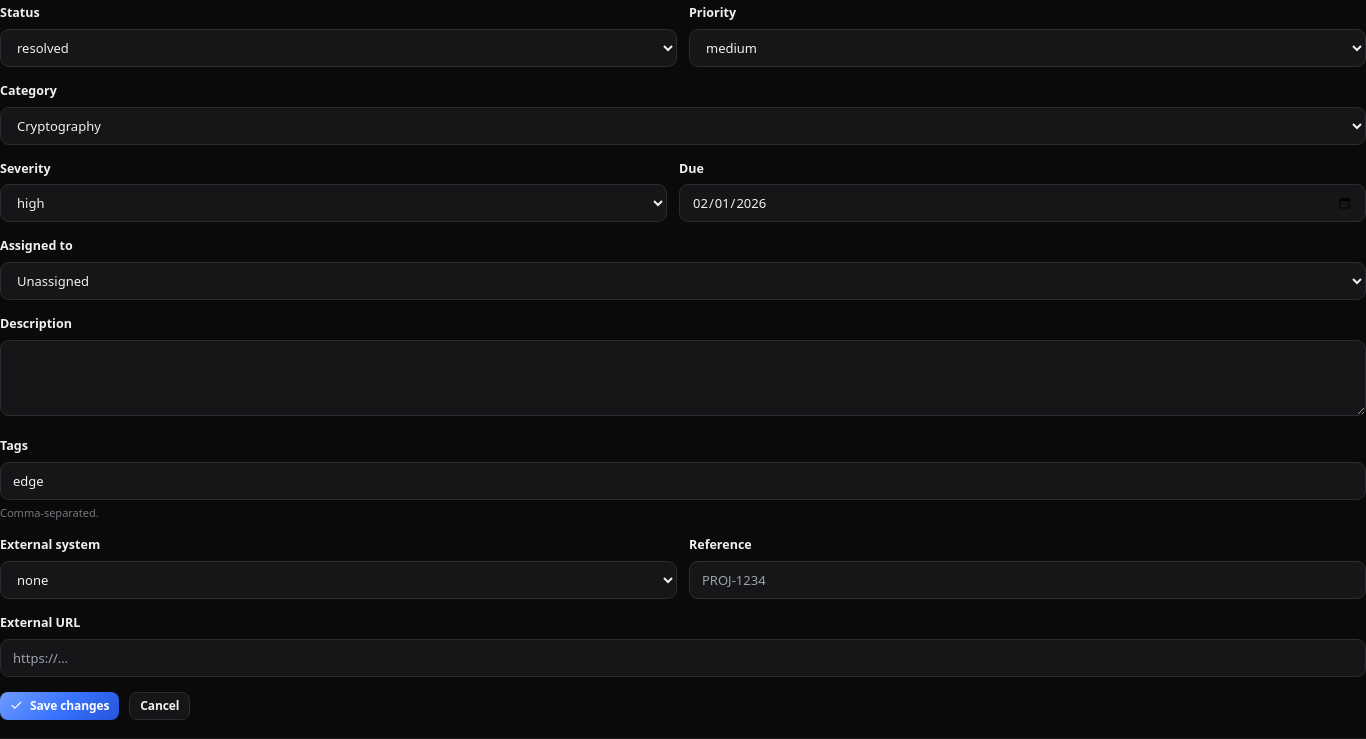
Test: the drawer edit form › shows resolution notes only once the ticket is being resolved
Select "resolved" in the dropdown labelled "Status": (338, 48) [0,29,677,67]
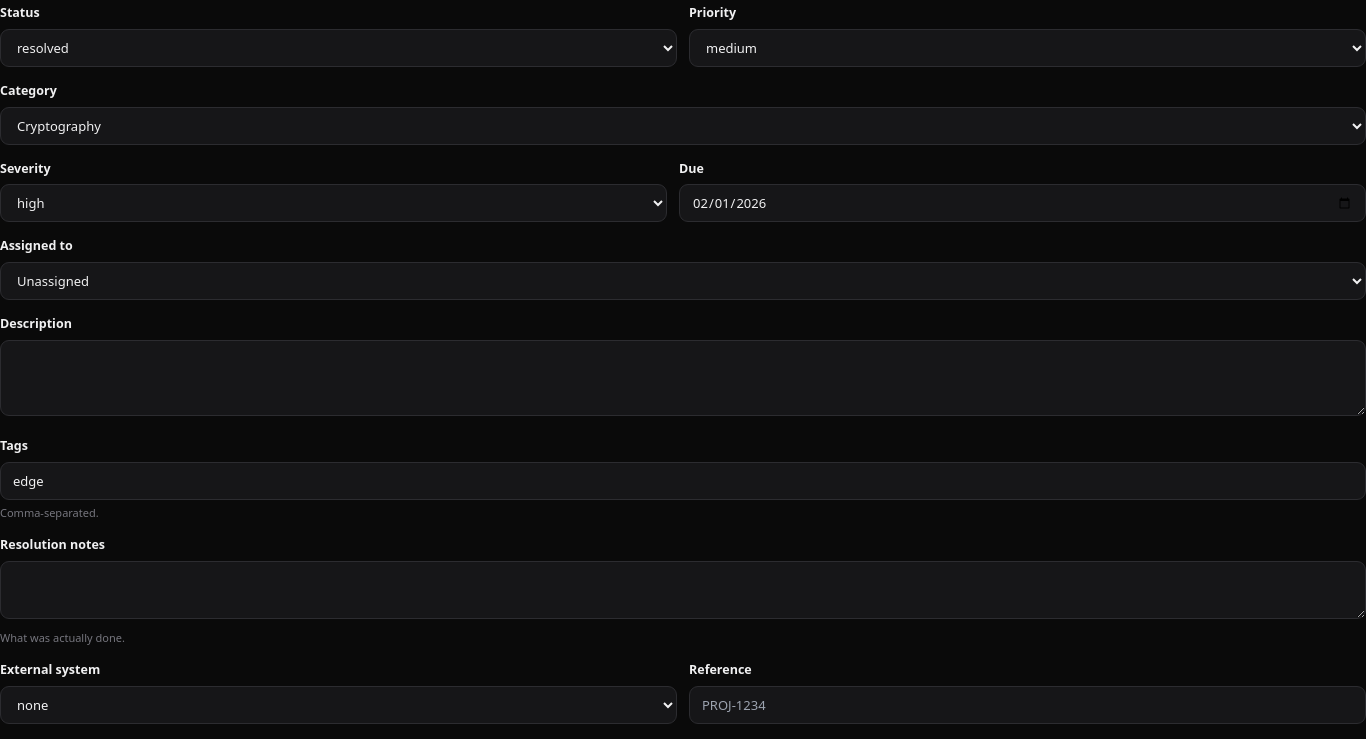
Expected: the text box labelled "Resolution notes What was actually done." is shown, [0,561,1365,618]
